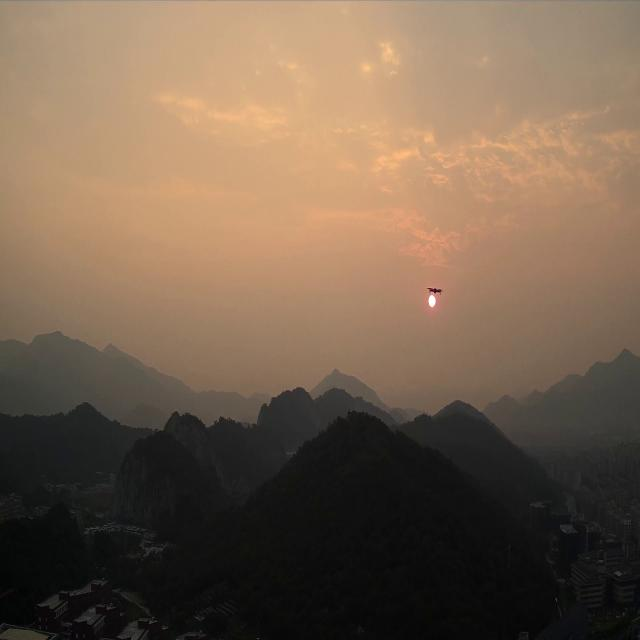UAV: (425, 285, 444, 296)
